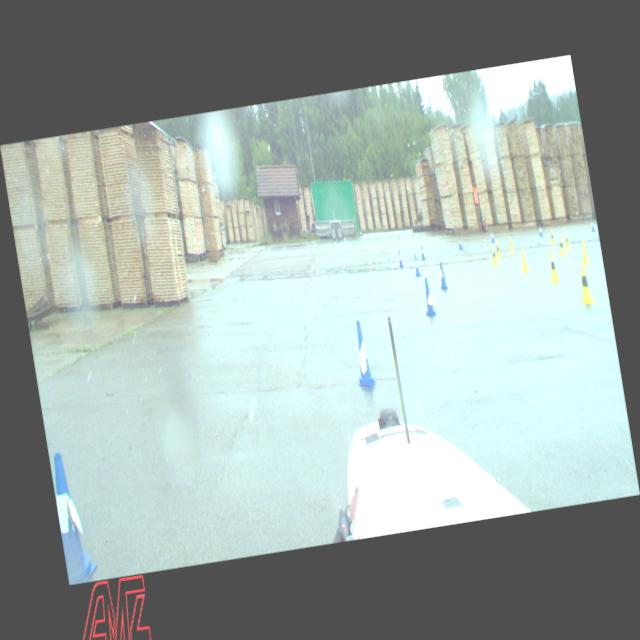blue_cone: (49, 450, 100, 584), (348, 319, 378, 389), (419, 276, 437, 318), (436, 260, 448, 292), (412, 253, 421, 276), (396, 249, 404, 268), (420, 244, 426, 260), (538, 223, 544, 237), (590, 218, 596, 232), (489, 230, 495, 243), (458, 236, 463, 250)
yellow_cone: (576, 263, 594, 305), (547, 252, 560, 284), (580, 240, 590, 264), (520, 248, 530, 272), (490, 244, 499, 266), (558, 236, 566, 256), (494, 241, 502, 259), (563, 233, 570, 250), (508, 235, 514, 252), (550, 230, 556, 244)
